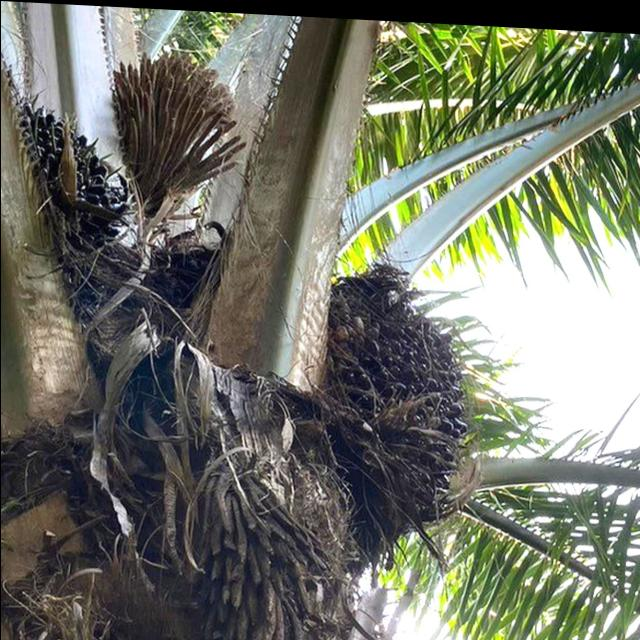ripe: (315, 256, 465, 511)
